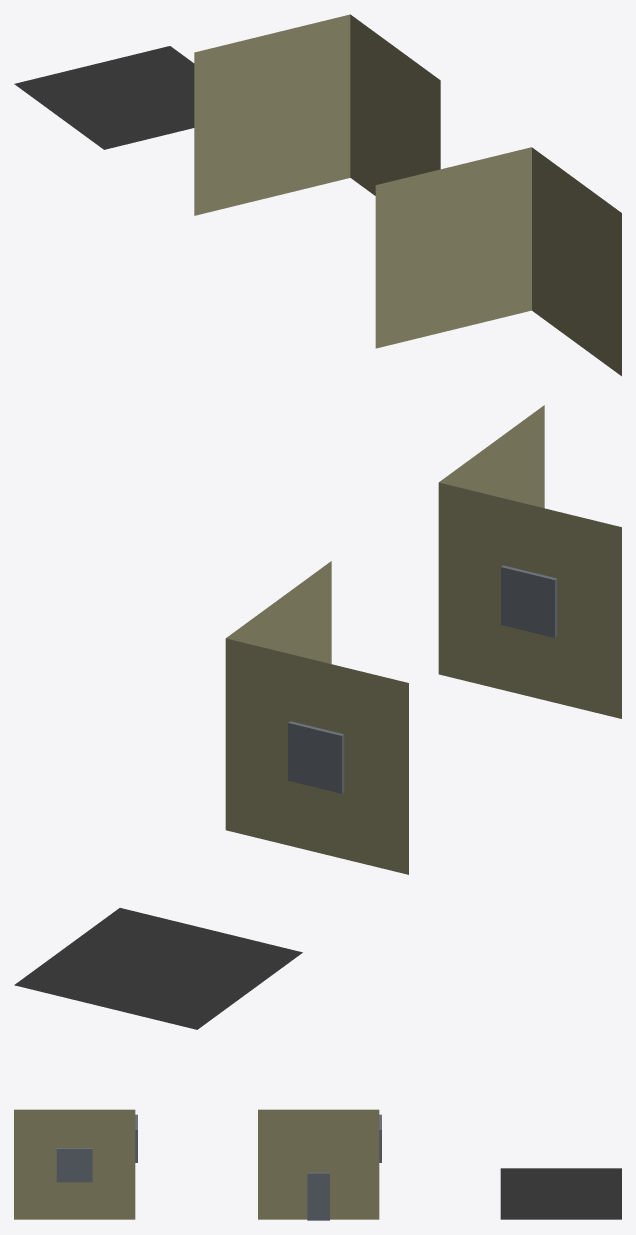
Rendered from SM_TileSet_00.fbx.
3 renders of one model, top to bottom at view 1: azimuth 30°, elevation 25°; view 2: azimuth 150°, elevation 25°; view 3: azimuth 270°, elevation 25°, orthographic. The views are drawn at different scales.
Visible parts, largest first — view 1: pPlane11, pPlane12, pPlane3; view 2: pPlane11, pPlane12, pPlane3; view 3: pPlane12, pPlane11, pPlane3.
Part boxes in pixels (x1,y1,x2,y2): pPlane11: [375, 147, 621, 376]; pPlane12: [194, 14, 440, 215]; pPlane3: [14, 46, 194, 149]; pPlane11: [438, 405, 621, 718]; pPlane12: [225, 561, 408, 874]; pPlane3: [14, 908, 302, 1029]; pPlane12: [258, 1109, 381, 1220]; pPlane11: [14, 1109, 137, 1219]; pPlane3: [500, 1168, 621, 1219].
Size of the model in its own units: 1.02 by 1 by 5.01.
